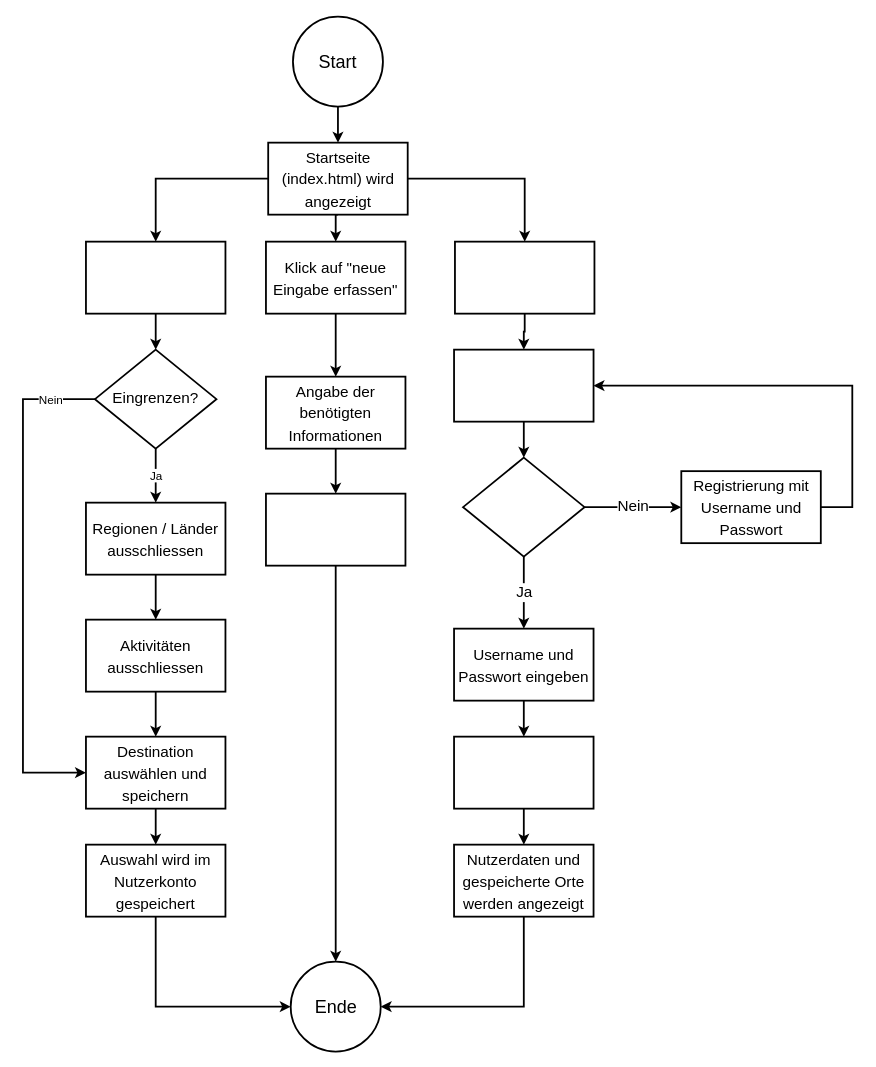
Some shapes in this 876 by 1067 pixel diagram are drawn without their labels. Each missing label, with the centre of its shape:
Anmelde Page erscheint: (523,385)
Auf Button "Eingabe speichern" klicken: (523,772)
Bereits registriert?: (523,506)
Destination wird im Nutzerkonto gespeichert: (335,529)
Klick auf "Auswahl Feriendestinationen": (155,277)
Klick auf Login oder Registrierung: (524,277)
